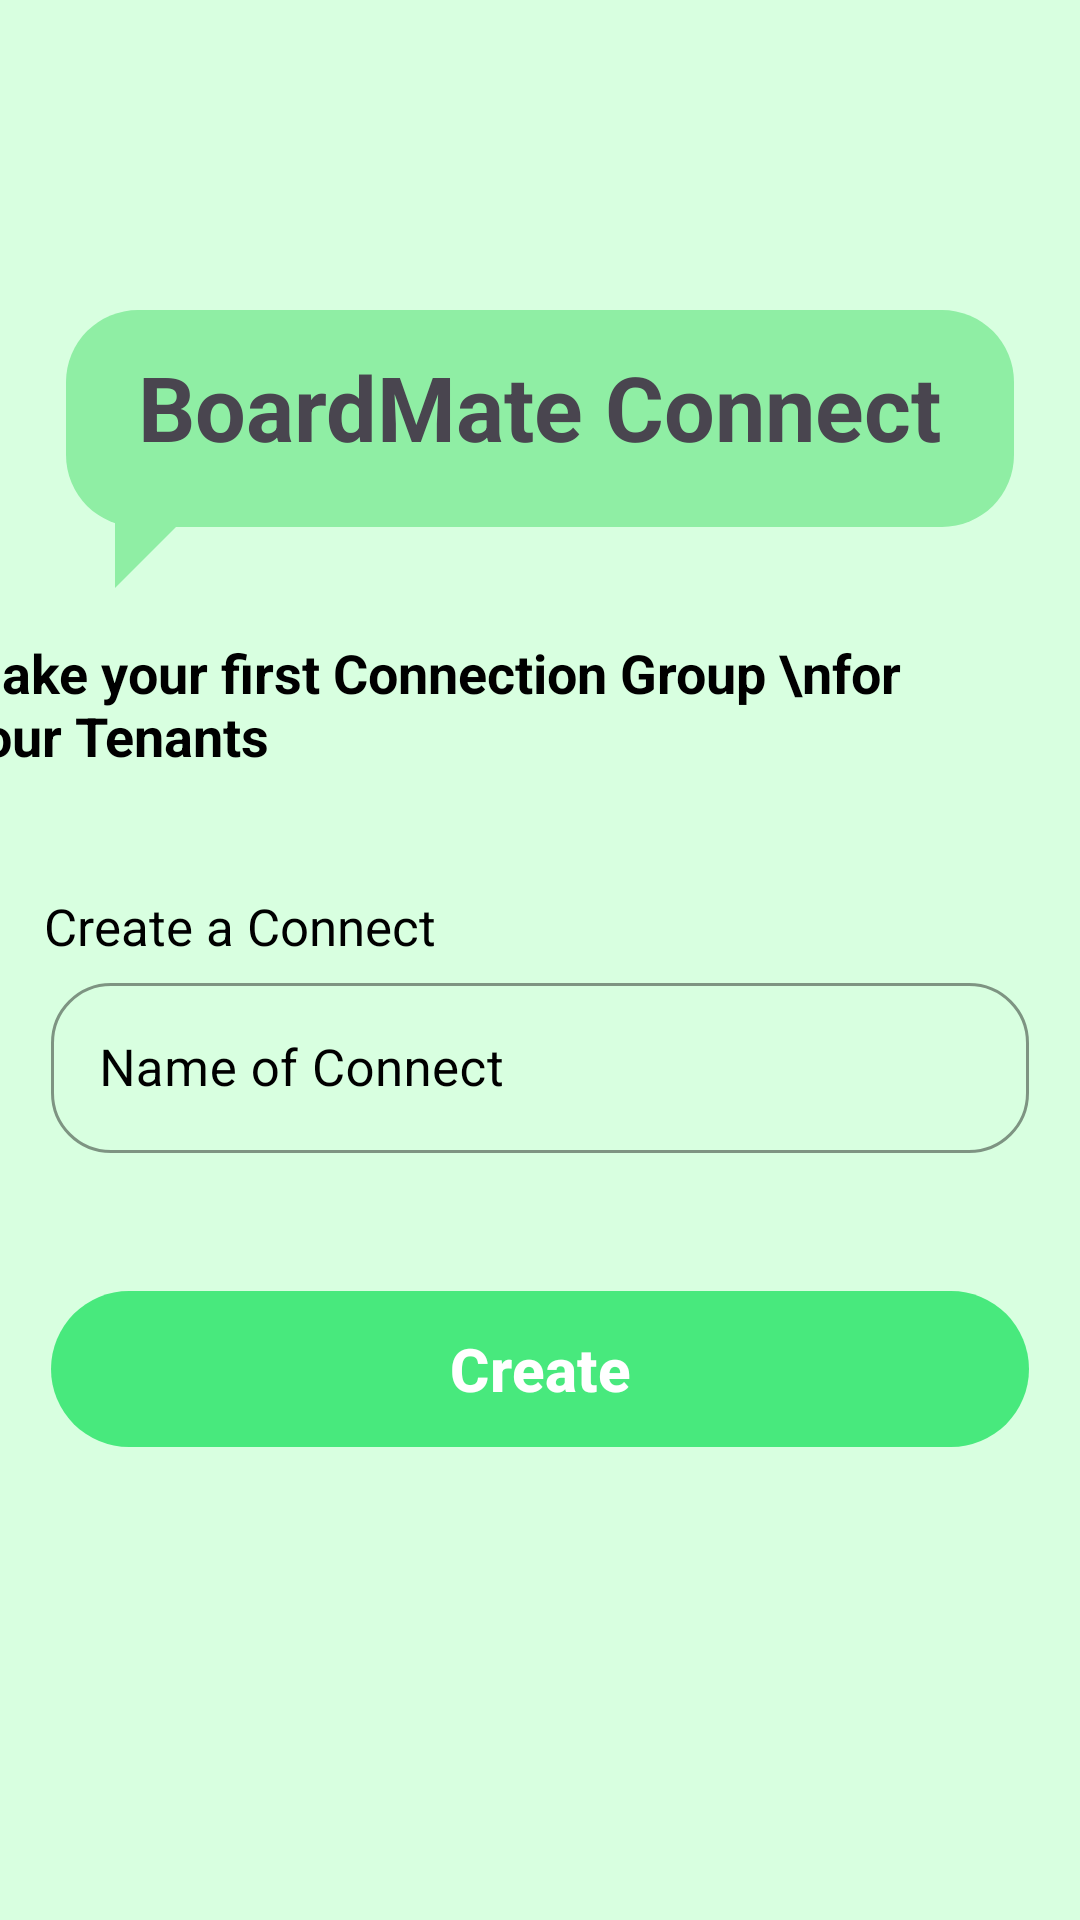

Icon click points for this 1080 × 1920 phone screenshot, format point (x, y):
bubble tail: point (151, 552)
